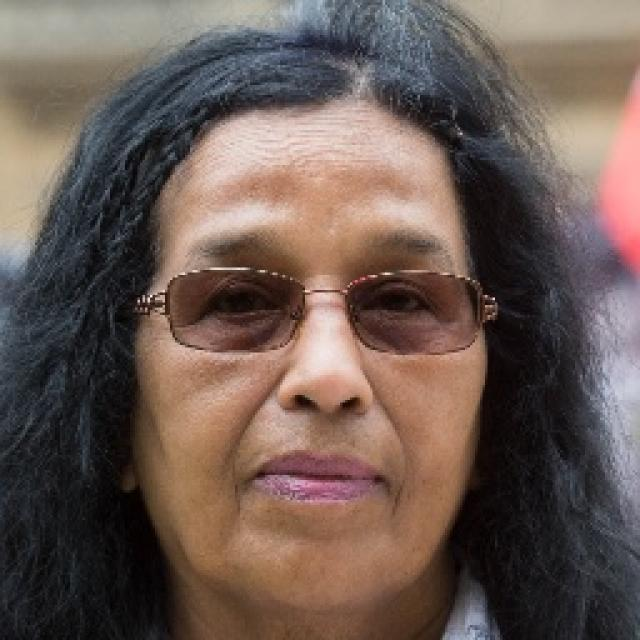eye: (207, 284, 283, 316), (364, 286, 432, 318)
nose: (281, 392, 372, 456)
